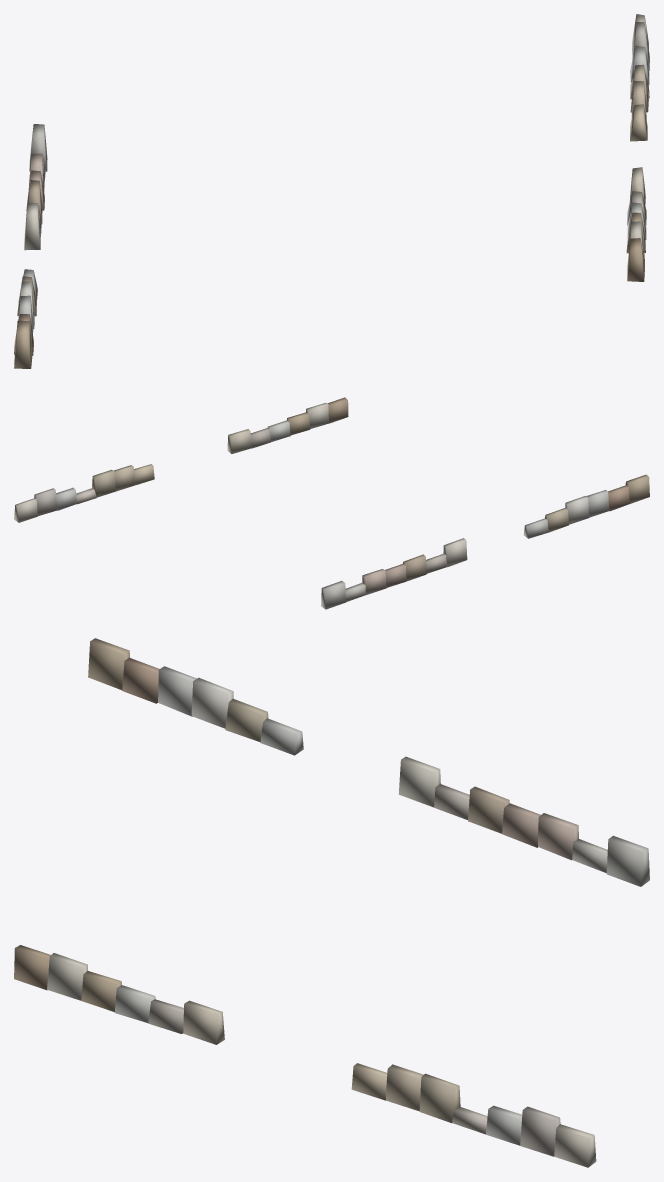
Rendered from farm_2_22_far.glb.
3 views of the same model, one above another, from view 1: azimuth 30°, elevation 25°; view 2: azimuth 150°, elevation 25°; view 3: azimuth 270°, elevation 25° (orthographic). The views are drawn at different scales.
Parts seen in each view (by area): view 1: geometry_0; view 2: geometry_0; view 3: geometry_0.
Part boxes in pixels (<box>): geometry_0: <box>14,14,649,368</box>; geometry_0: <box>14,397,649,609</box>; geometry_0: <box>14,638,649,1167</box>.
Bounding box in the file's own units: 38.87 × 4.55 × 24.6.
